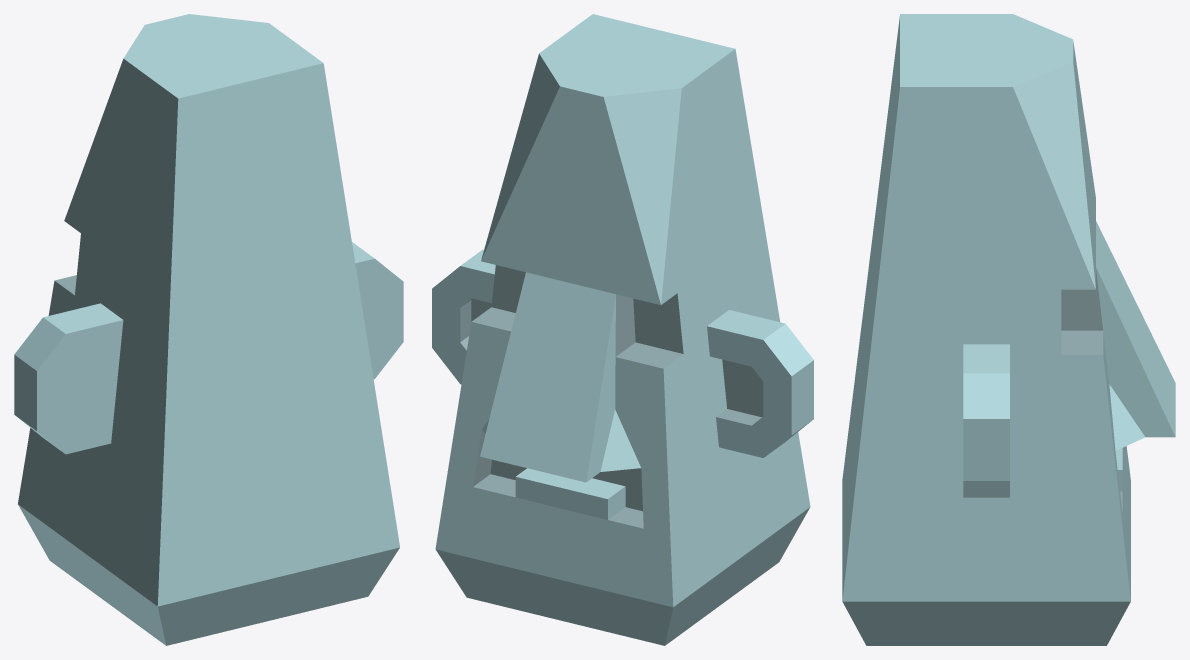
File: statue-head.glb
3 views of the same model, side by side, from view 1: azimuth 30°, elevation 25°; view 2: azimuth 150°, elevation 25°; view 3: azimuth 270°, elevation 25° (orthographic). The views are drawn at different scales.
Visible parts, largest first — view 1: statue_head; view 2: statue_head; view 3: statue_head.
Boxes of the visible parts, x1,y1,x2,y2 form: statue_head: (14, 14, 403, 645); statue_head: (432, 14, 813, 645); statue_head: (842, 14, 1175, 645).
Bounding box in the file's own units: 0.726 × 1 × 0.5544.
